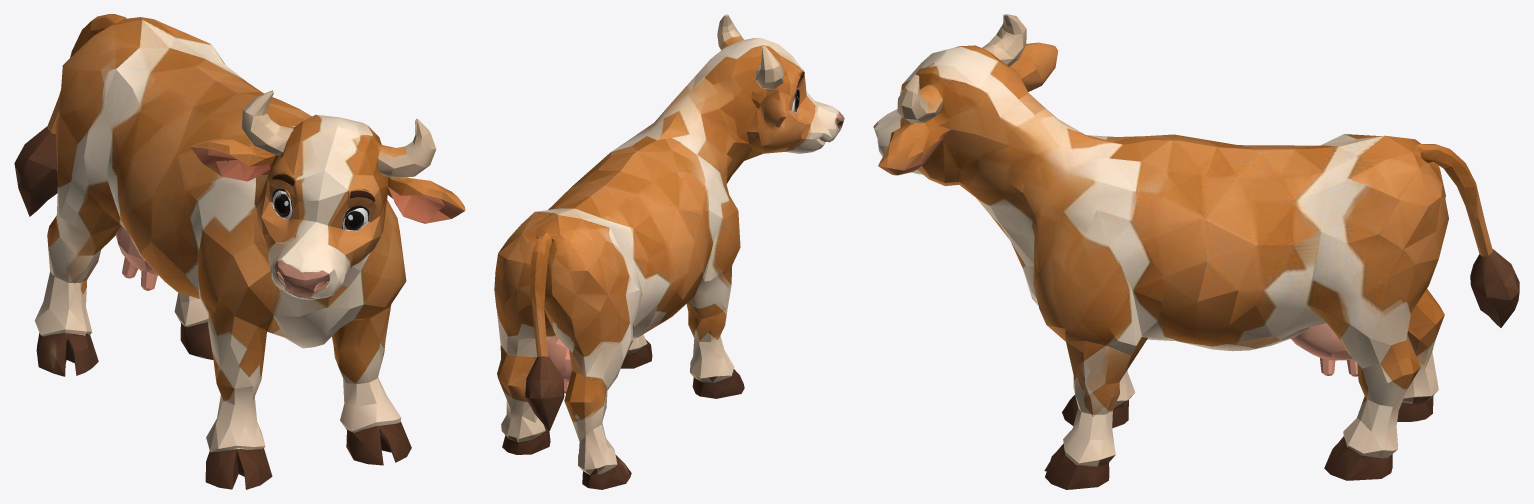
The model's file is milk-cow.glb.
The picture shows the model from 3 angles, left to right: view 1: azimuth 30°, elevation 25°; view 2: azimuth 150°, elevation 25°; view 3: azimuth 270°, elevation 25°; orthographic projection. The views are drawn at different scales.
Size of the model in its own units: 0.7367 by 1.29 by 1.9.
Materials: 1 (1 with a texture image).
